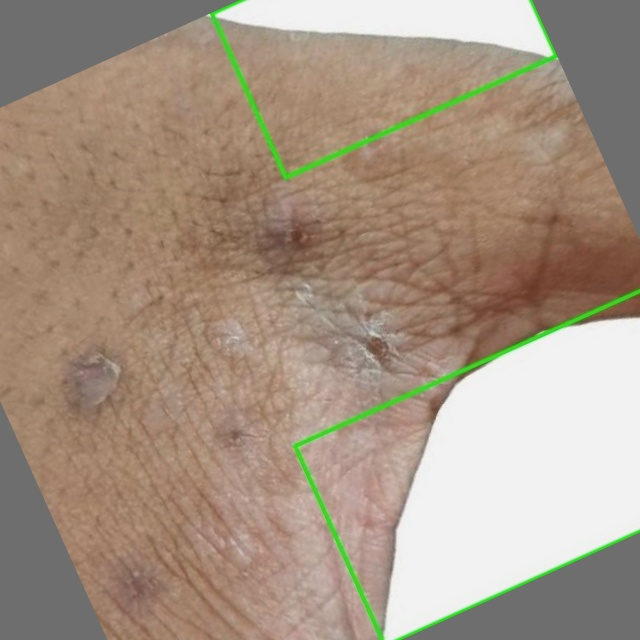Scabies: (294, 291, 639, 639), (211, 0, 556, 177)
